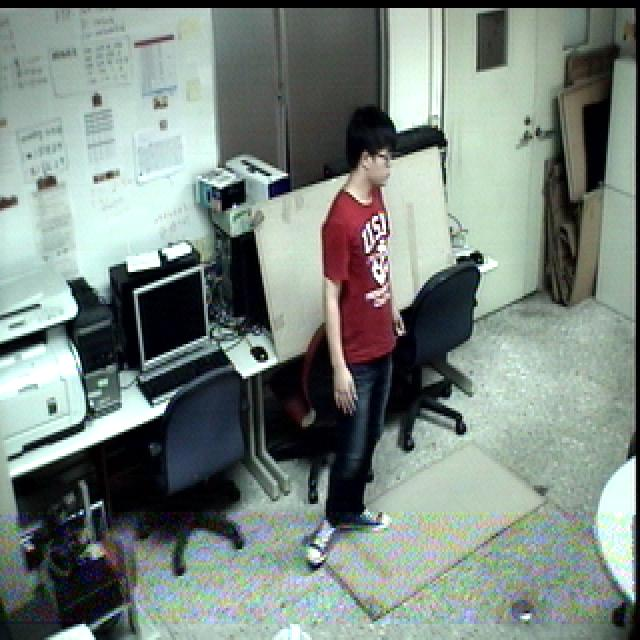stand: (295, 101, 418, 575)
